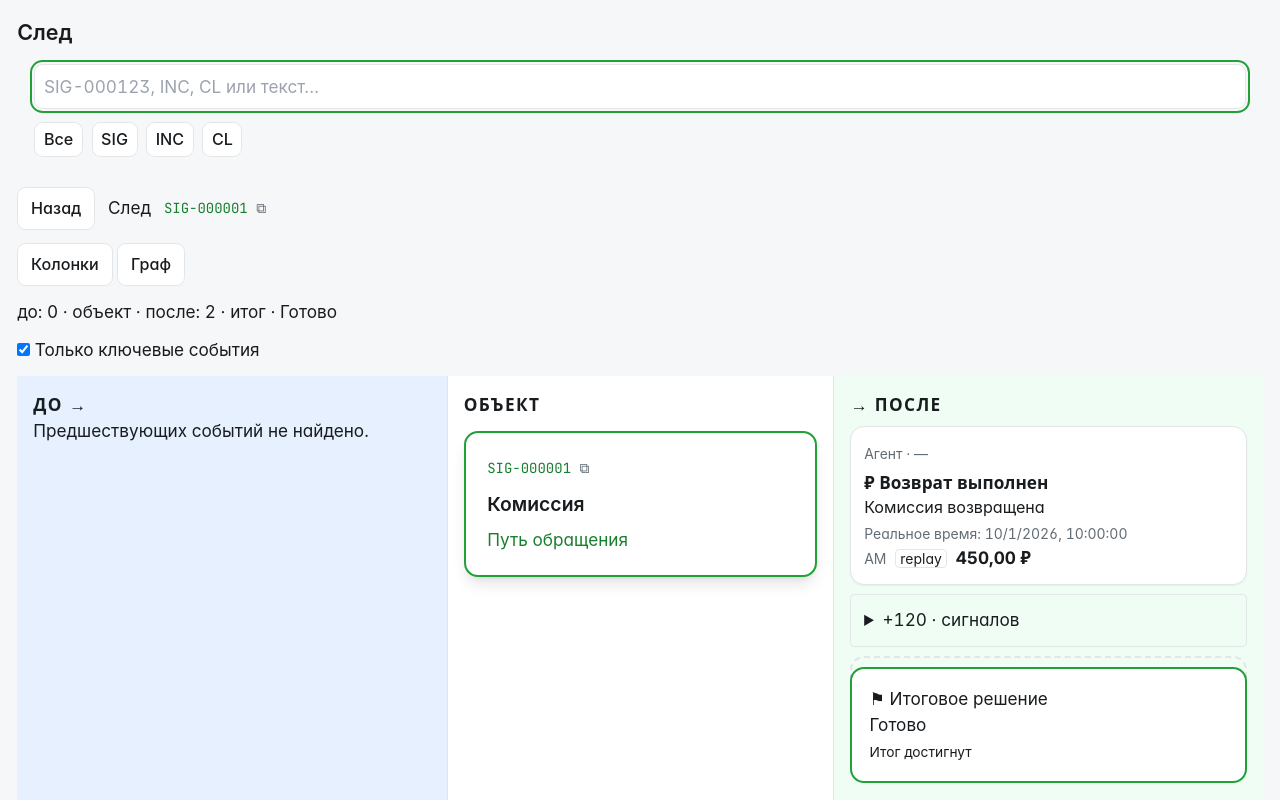
Test case: renders zones, key filter, fanout, pending and event details
Expected: the text "₽ Возврат выполнен" is shown, [864, 472, 1048, 493]
Expected: the text "Подробность" is not shown
Click the checkbox labelled "Только ключевые события" at (24, 350), box [17, 343, 30, 356]
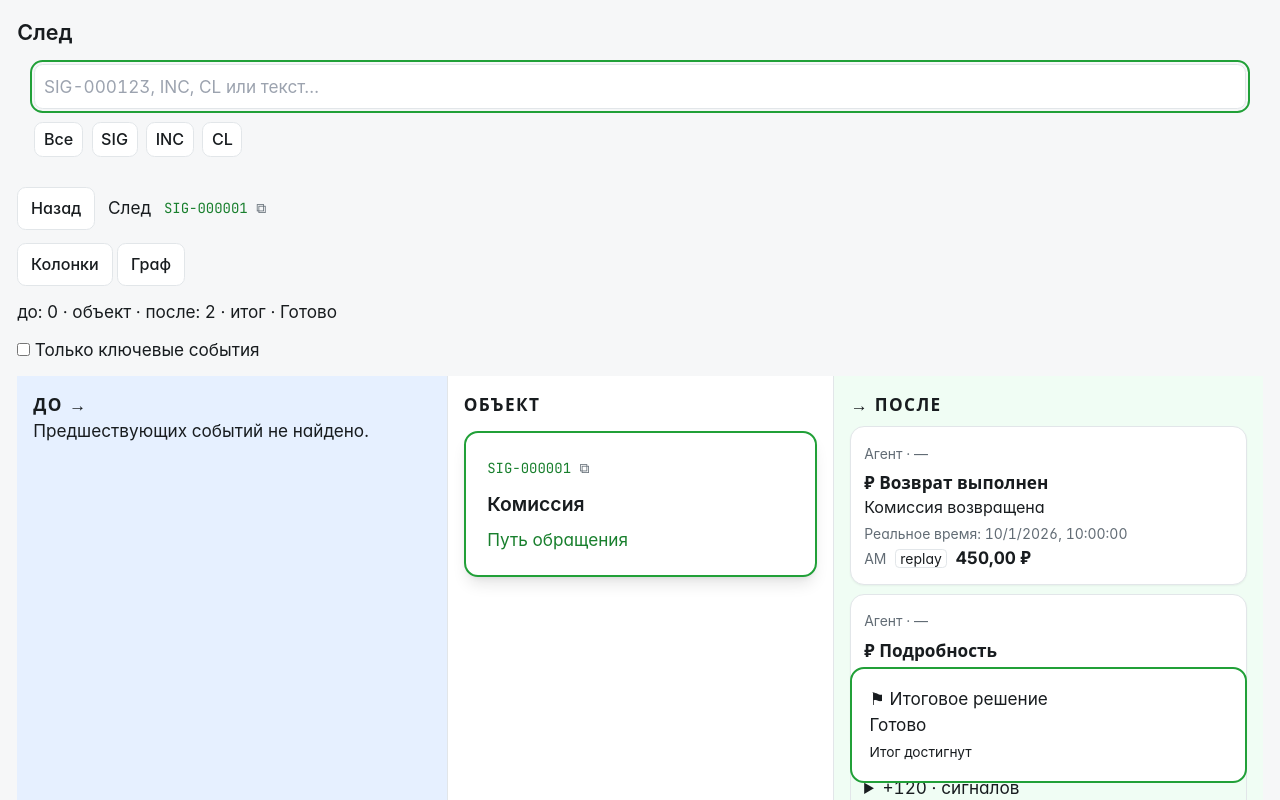
Expected: the text "₽ Подробность" is shown, [864, 640, 997, 661]
Click the text "₽ Возврат выполнен" at (956, 483), box [864, 472, 1048, 493]
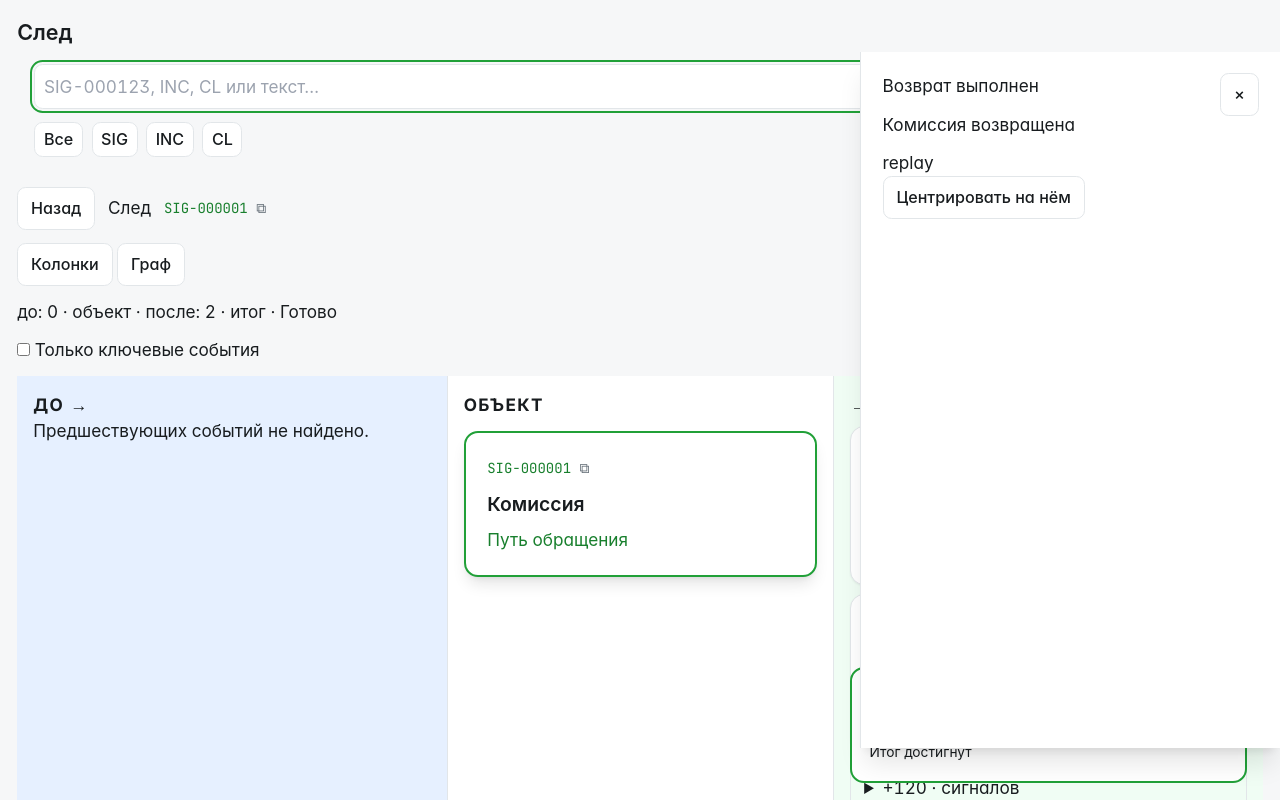
Expected: the dialog named "Событие" is shown, [860, 52, 1279, 748]
Click the button named "Закрыть" at (1239, 95), box [1220, 73, 1258, 116]
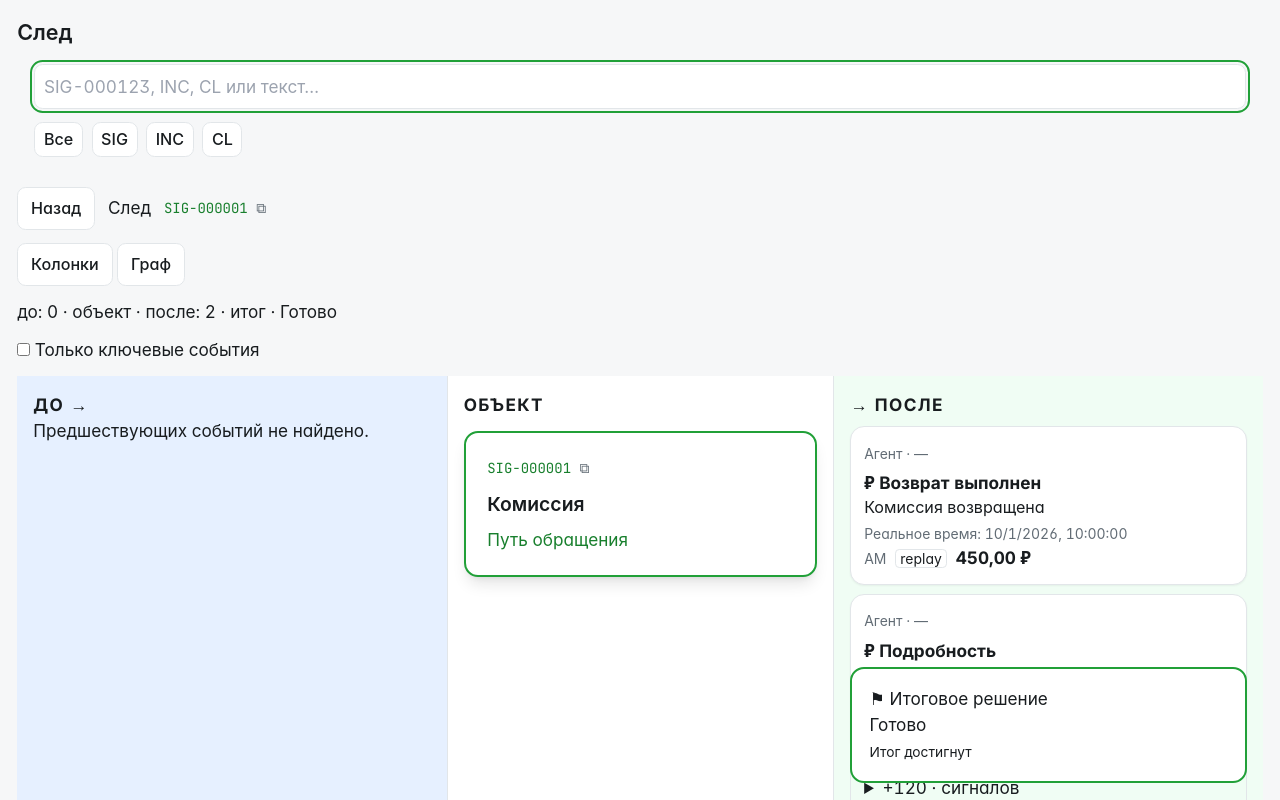
Expected: the dialog is gone
